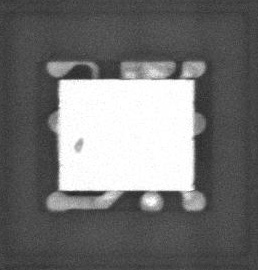DIE_INK: (70, 142, 81, 161)
